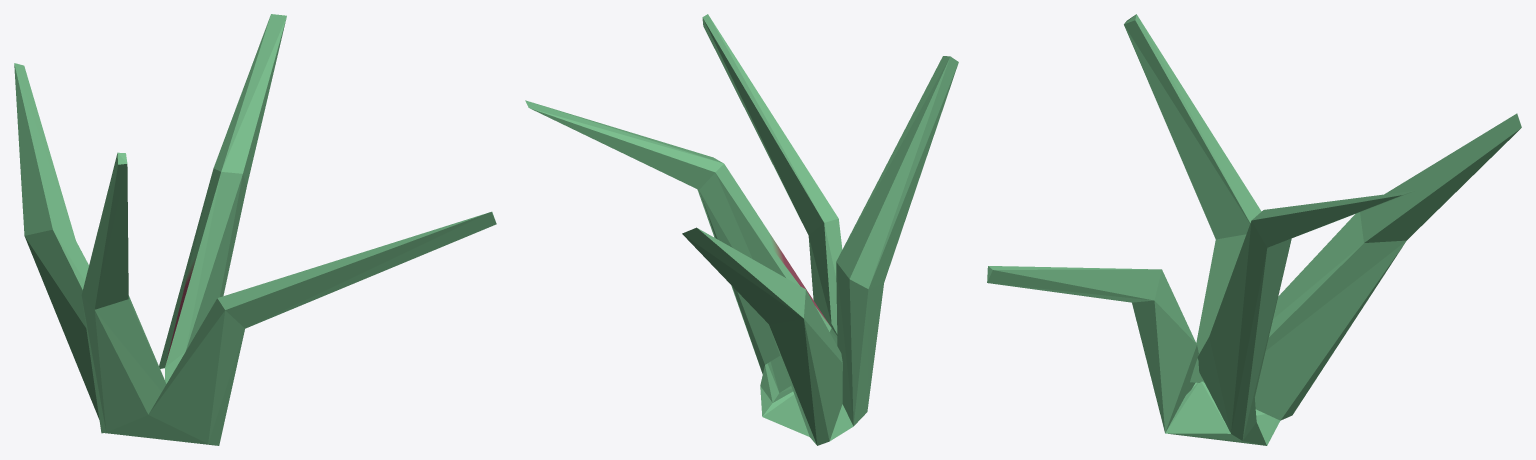
The model's file is grass2.fbx.
The picture shows the model from 3 angles, left to right: view 1: azimuth 30°, elevation 25°; view 2: azimuth 150°, elevation 25°; view 3: azimuth 270°, elevation 25°; orthographic projection. The views are drawn at different scales.
Parts seen in each view (by area): view 1: Plane; view 2: Plane; view 3: Plane.
Part boxes in pixels (x1=…): Plane: x1=14, y1=14, x2=496, y2=445; Plane: x1=525, y1=14, x2=958, y2=445; Plane: x1=987, y1=14, x2=1521, y2=445.
Bounding box in the file's own units: 221 × 229 × 300.
